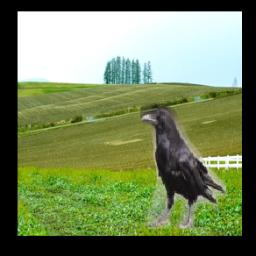Crow: (140, 104, 226, 230)
